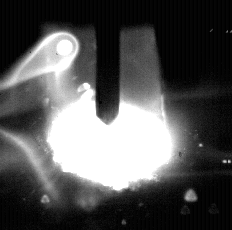arame: (96, 0, 121, 125)
poca: (46, 0, 177, 230)
